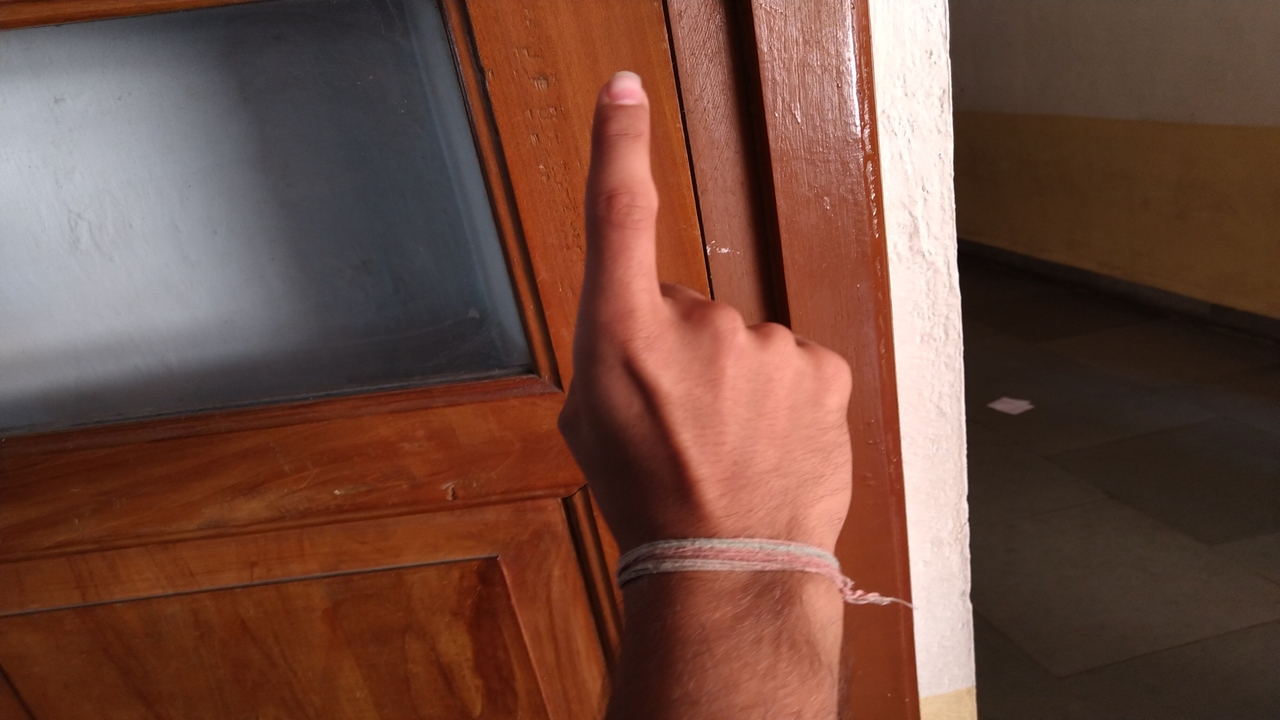fingertip: (590, 66, 652, 122)
